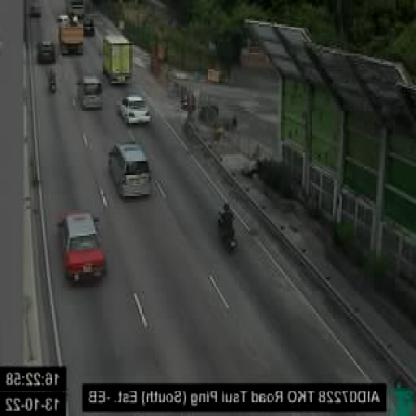Car: (60, 212, 107, 286), (108, 139, 152, 202), (119, 94, 152, 128), (76, 72, 104, 112), (36, 39, 54, 64), (83, 17, 95, 37)
Truck: (102, 34, 132, 86), (56, 13, 82, 57)
